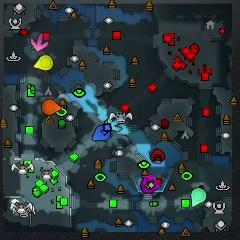p1: (93, 125, 110, 141)
p2: (191, 188, 206, 208)
p3: (140, 175, 160, 193)
p4: (34, 55, 53, 70)
p5: (42, 99, 61, 114)
x1: (31, 34, 49, 51)
x3: (107, 118, 122, 131)
